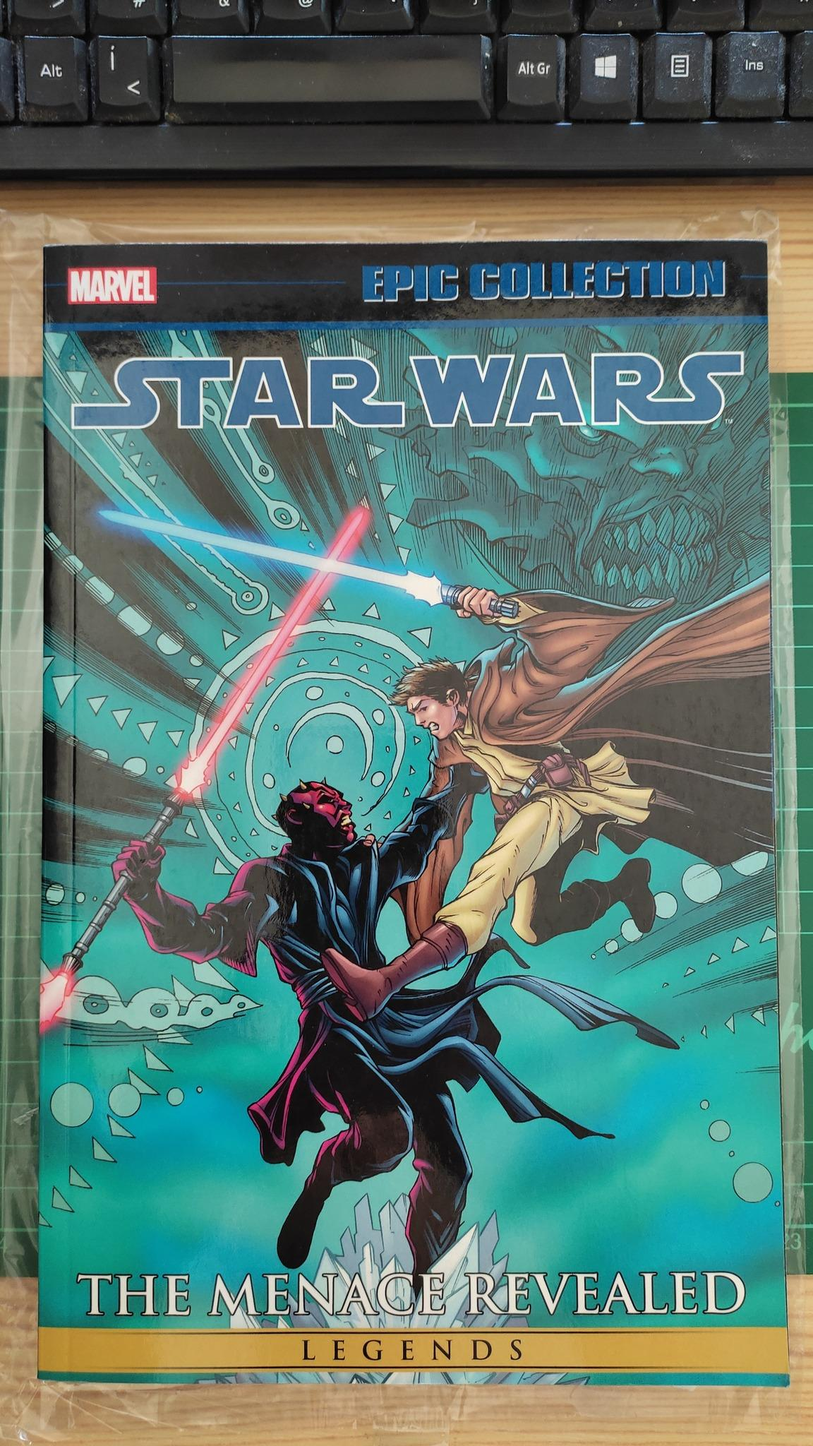comic: (40, 240, 789, 1383)
